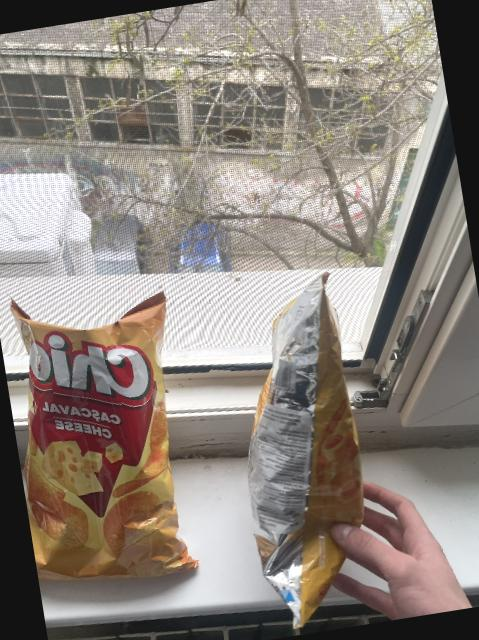Chio Cascaval 125g: (0, 287, 202, 596)
Chio Hula Hoops Cheese 70g: (211, 278, 384, 627)
